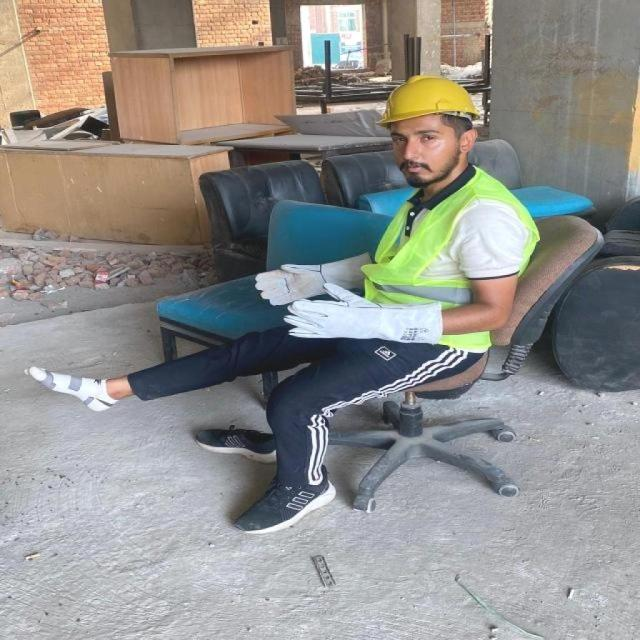Gloves-Detection: (292, 284, 442, 352), (259, 238, 372, 301)
